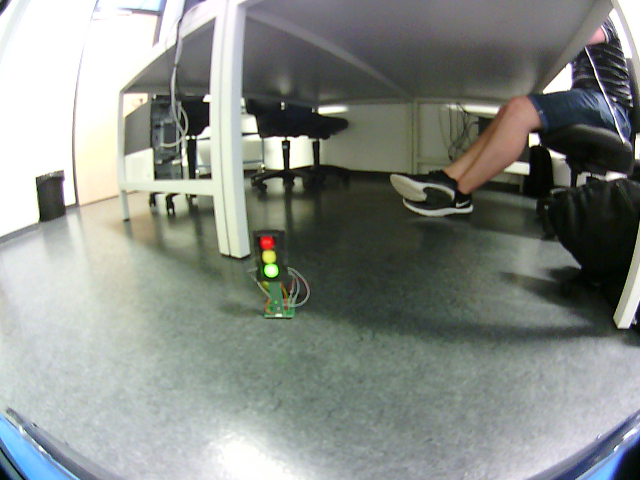green trafficlight: (258, 233, 283, 278)
